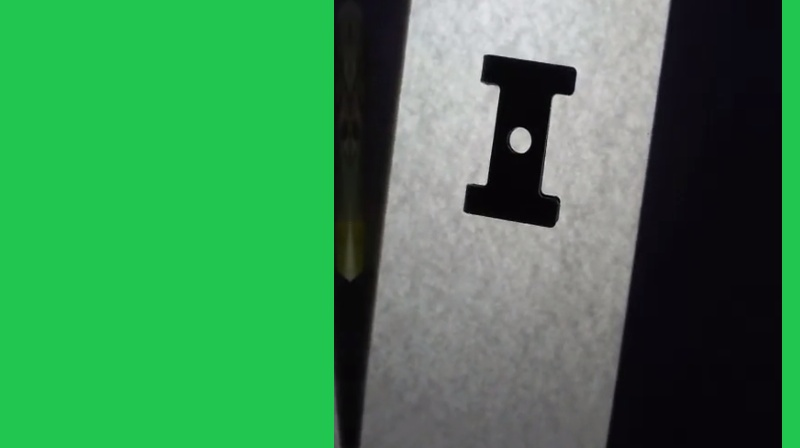O002: (462, 50, 578, 229)
